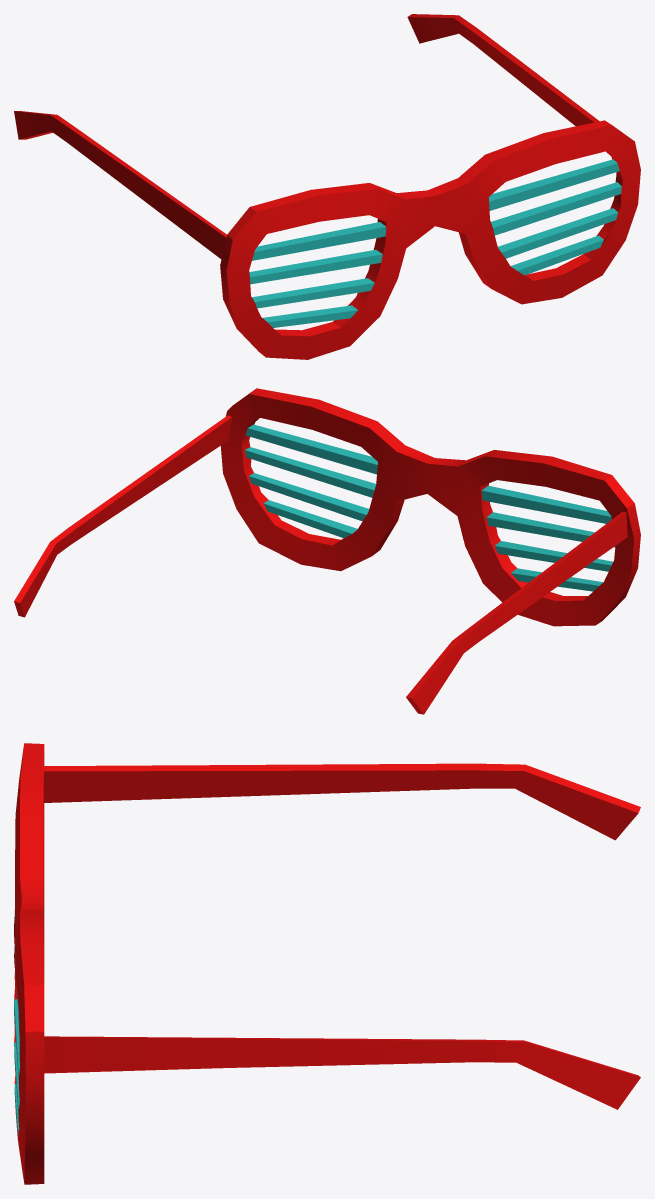
File: Spects_2.FBX
3 renders of one model, top to bottom at view 1: azimuth 30°, elevation 25°; view 2: azimuth 150°, elevation 25°; view 3: azimuth 270°, elevation 25°, orthographic. The views are drawn at different scales.
Visible parts, largest first — view 1: Head_dakskinned_final; view 2: Head_dakskinned_final; view 3: Head_dakskinned_final.
Part boxes in pixels (box(x1,y1,x2,y2)): Head_dakskinned_final: box(14, 14, 640, 359); Head_dakskinned_final: box(14, 388, 640, 714); Head_dakskinned_final: box(14, 743, 640, 1184).
Bounding box in the file's own units: 24.74 × 9.28 × 23.28.
